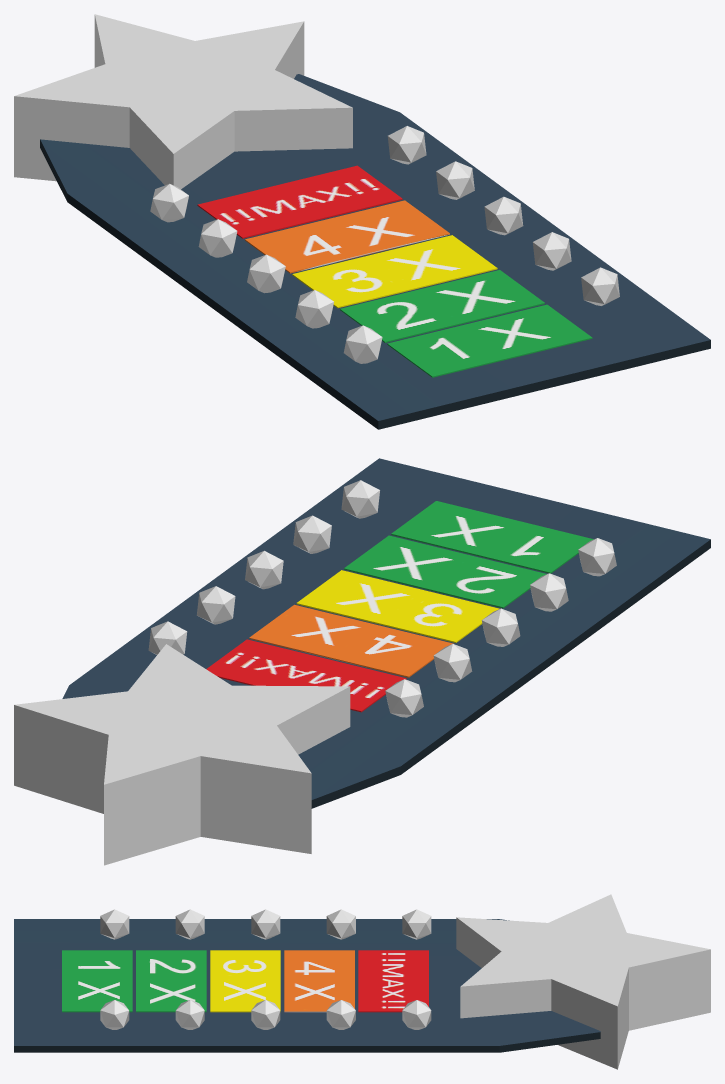
File: ScoreXPlatform.fbx
3 renders of one model, top to bottom at view 1: azimuth 30°, elevation 25°; view 2: azimuth 150°, elevation 25°; view 3: azimuth 270°, elevation 25°, orthographic. The views are drawn at different scales.
Parts seen in each view (by area): view 1: Platform, 1X, 5X, 3X, 4X, 2X; view 2: Platform, 1X, 2X, 4X, 3X, 5X; view 3: Platform, 5X, 4X, 2X, 1X, 3X.
Part boxes in pixels (box(x1,y1,x2,y2)): Platform: box(14, 14, 710, 429); 1X: box(387, 304, 592, 377); 5X: box(197, 165, 402, 238); 3X: box(292, 235, 497, 308); 4X: box(245, 200, 449, 273); 2X: box(340, 270, 544, 342); Platform: box(14, 458, 710, 865); 1X: box(391, 501, 593, 573); 2X: box(344, 535, 546, 608); 4X: box(249, 604, 453, 677); 3X: box(296, 570, 499, 642); 5X: box(206, 639, 406, 712); Platform: box(14, 894, 710, 1069); 5X: box(358, 950, 428, 1012); 4X: box(284, 950, 354, 1012); 2X: box(136, 950, 206, 1012); 1X: box(62, 950, 132, 1012); 3X: box(210, 950, 280, 1012).
Size of the model in its own units: 401 by 93.38 by 932.
